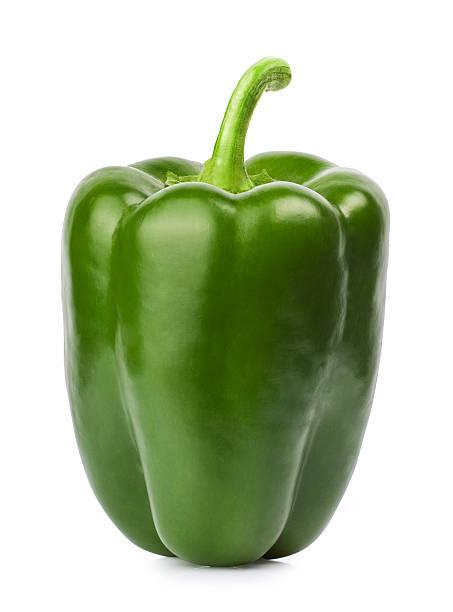Capsicum: (63, 47, 392, 565)
